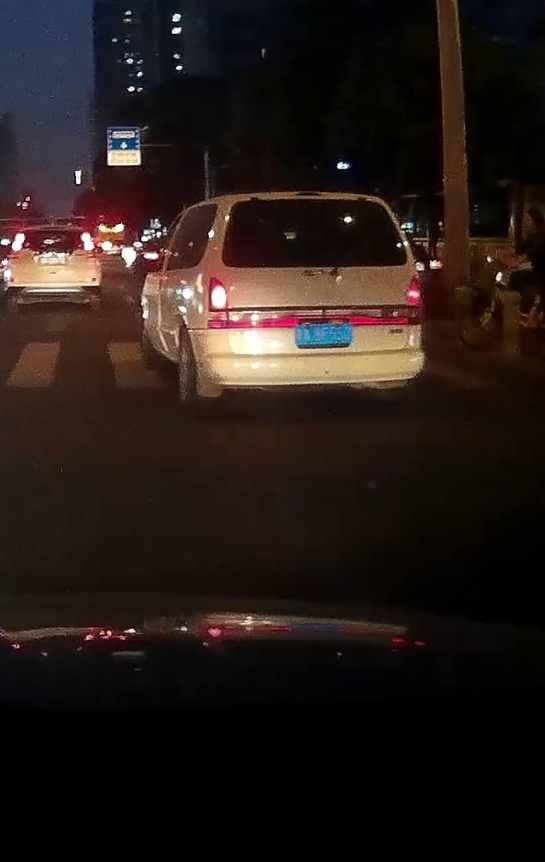L_light: (208, 275, 229, 328), (8, 233, 24, 258)
R_light: (407, 275, 421, 324), (82, 232, 96, 258)
T_light: (299, 199, 328, 207), (45, 229, 61, 235)
night-left: (206, 191, 423, 406)
night-no: (3, 226, 101, 312)
